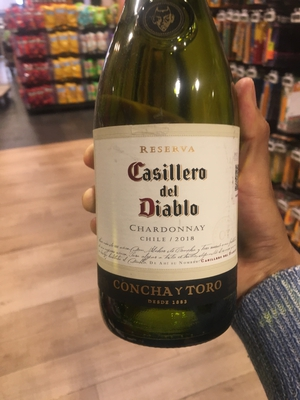casillero del diablo chardonnay: (93, 19, 238, 339)
